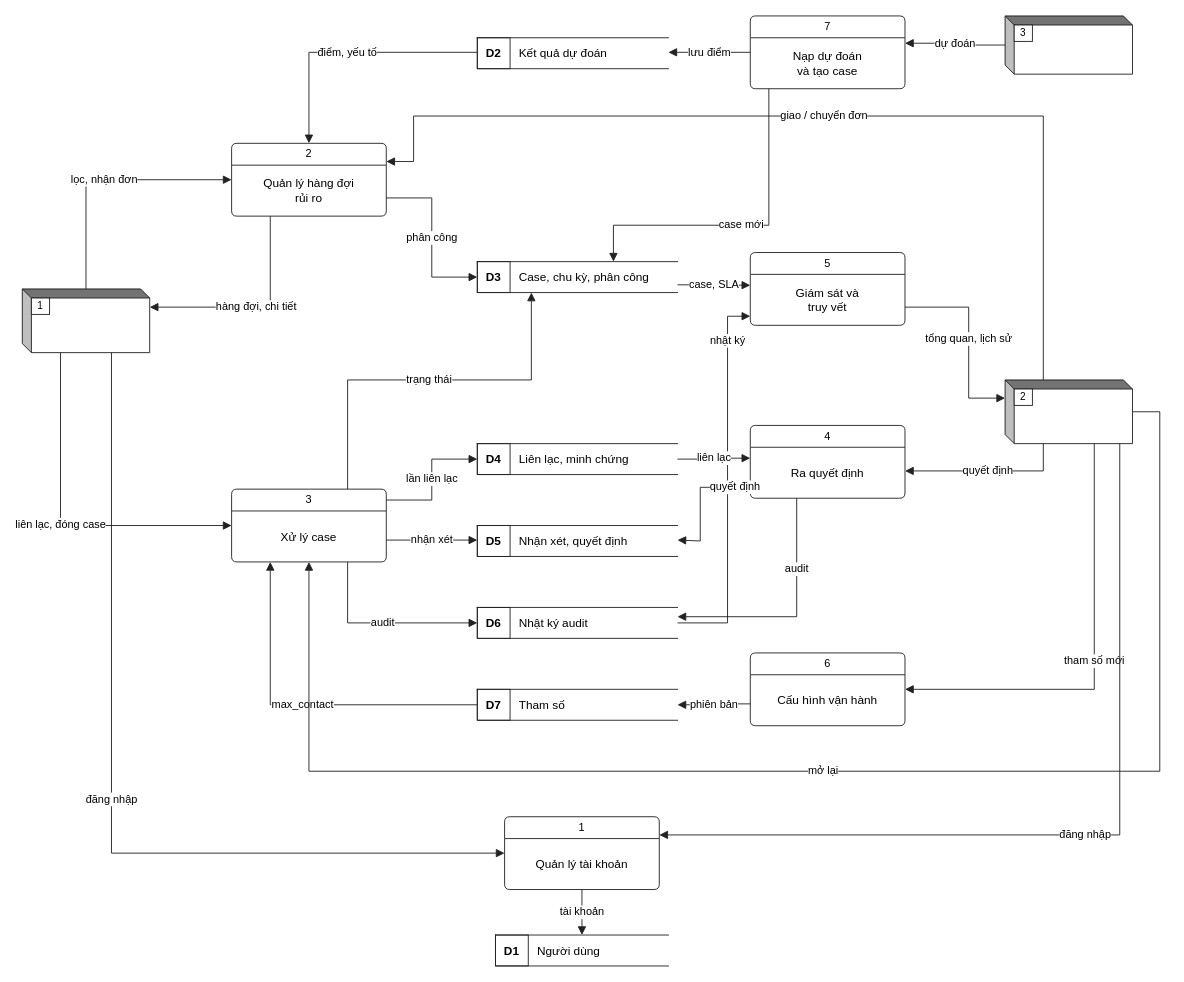
Some shapes in this 1184 by 982 pixel diagram are drawn without their labels. Here are the shapes that lost their labels. From the top down, the box of each, then its label:
(1004, 15, 1132, 74): Quy trình chấm điểm ML
(21, 288, 150, 353): Nhân viên CSKH
(1004, 379, 1132, 444): Quản lý
